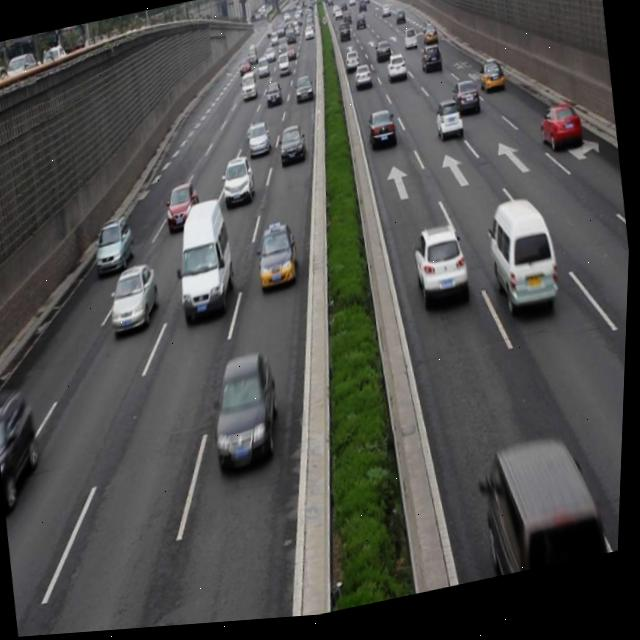car: (208, 351, 288, 476), (0, 382, 52, 510), (410, 225, 474, 309), (107, 263, 166, 337), (254, 225, 302, 294), (93, 214, 140, 276), (537, 107, 584, 162), (220, 157, 257, 210), (164, 183, 204, 232), (366, 110, 400, 156), (433, 104, 467, 149), (277, 126, 309, 170), (452, 85, 484, 127), (478, 64, 507, 103), (246, 125, 274, 162), (385, 57, 410, 90), (419, 51, 443, 80), (353, 67, 373, 94)
truck: (482, 435, 618, 586), (484, 199, 564, 321), (171, 197, 242, 326)
